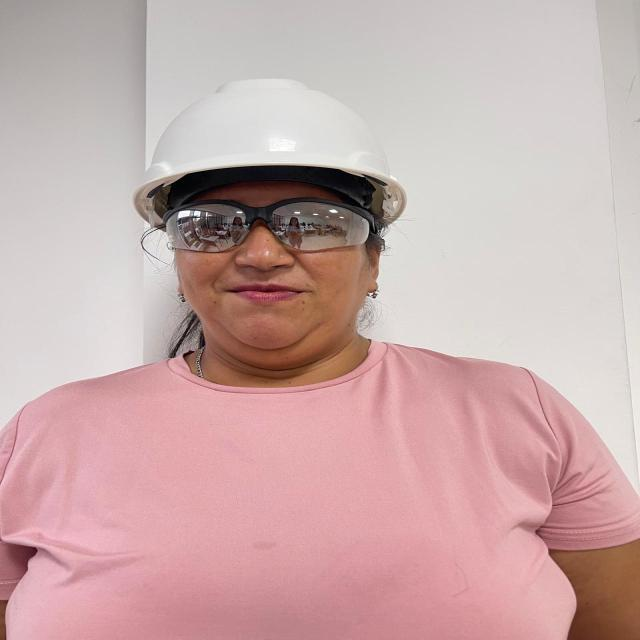helmet: (135, 77, 409, 229)
protective_glasses: (165, 198, 371, 252)
